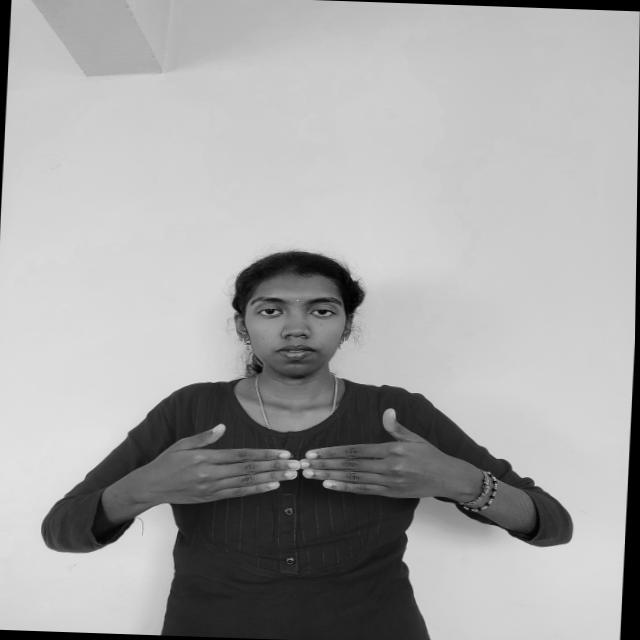Night: (127, 394, 473, 520)
